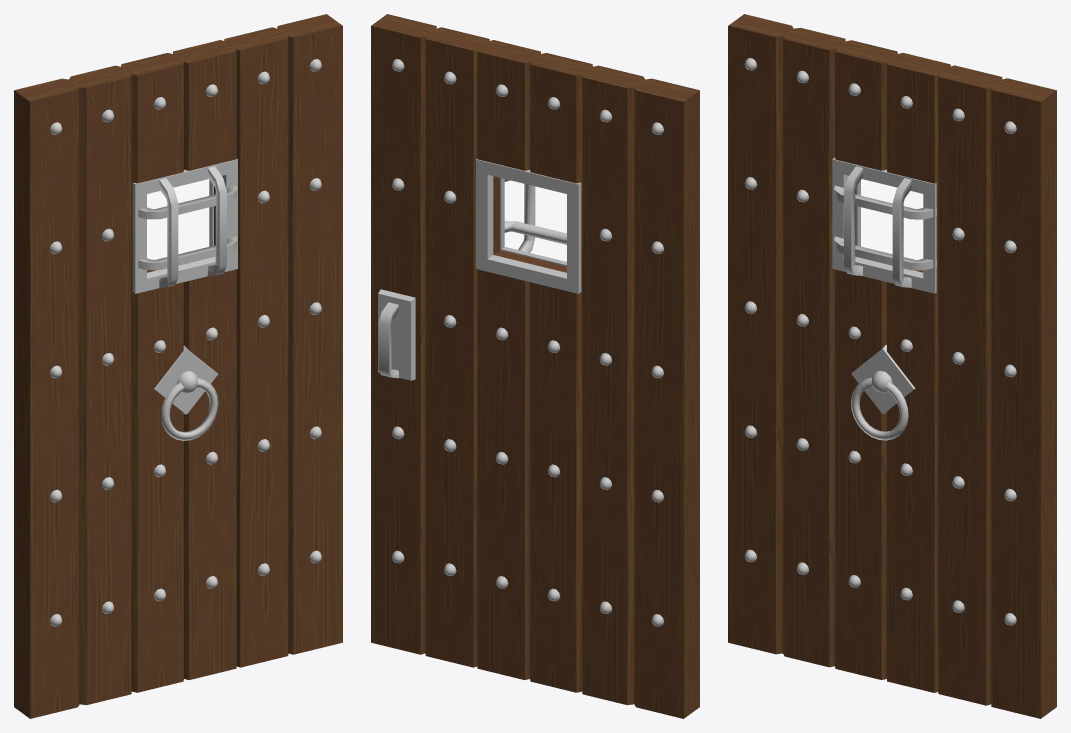
File: Door_2_Flat.gltf
The picture shows the model from 3 angles, left to right: view 1: azimuth 30°, elevation 25°; view 2: azimuth 150°, elevation 25°; view 3: azimuth 330°, elevation 25°; orthographic projection.
Parts seen in each view (by area): view 1: Door_2_Flat; view 2: Door_2_Flat; view 3: Door_2_Flat.
Part boxes in pixels (x1,y1,x2,y2): Door_2_Flat: [14, 14, 342, 718]; Door_2_Flat: [371, 14, 699, 718]; Door_2_Flat: [728, 14, 1056, 718].
Size of the model in its own units: 1.11 by 2.1 by 0.2609.
